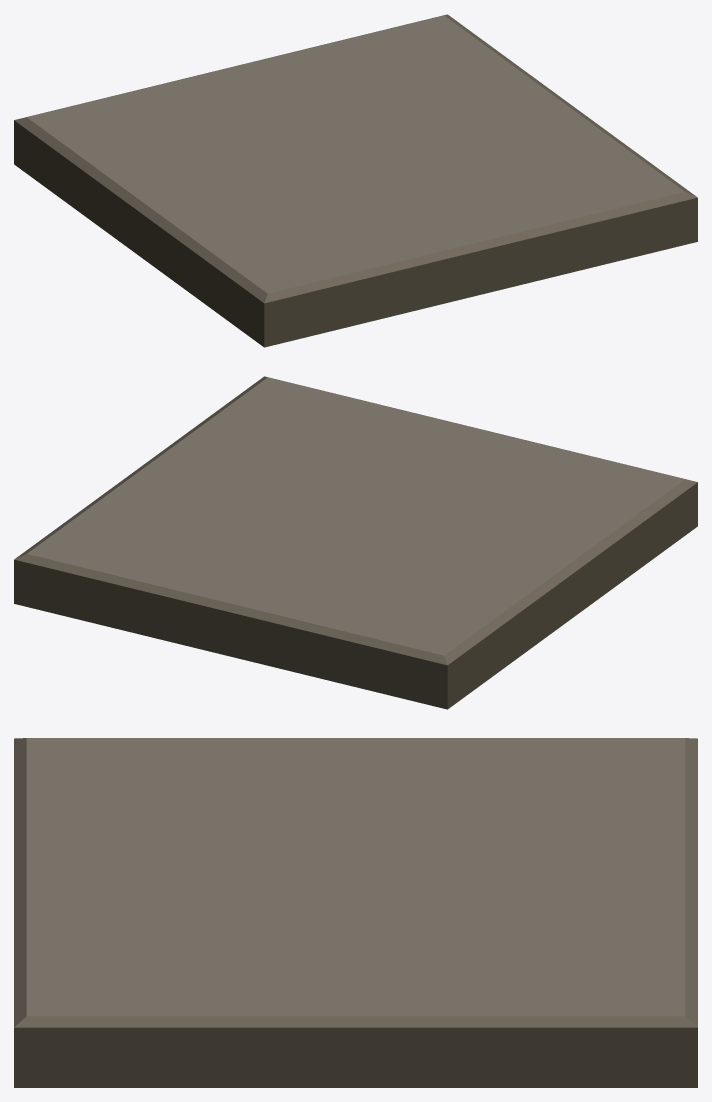
File: Bottom_C1.fbx
3 views of the same model, one above another, from view 1: azimuth 30°, elevation 25°; view 2: azimuth 150°, elevation 25°; view 3: azimuth 270°, elevation 25° (orthographic). The views are drawn at different scales.
Visible parts, largest first — view 1: Bottom_C1; view 2: Bottom_C1; view 3: Bottom_C1.
Boxes of the visible parts, left/top/right/bottom form: Bottom_C1: left=14, top=14, right=697, bottom=347; Bottom_C1: left=14, top=376, right=697, bottom=709; Bottom_C1: left=14, top=738, right=697, bottom=1087.
Size of the model in its own units: 623 by 66.63 by 623.
